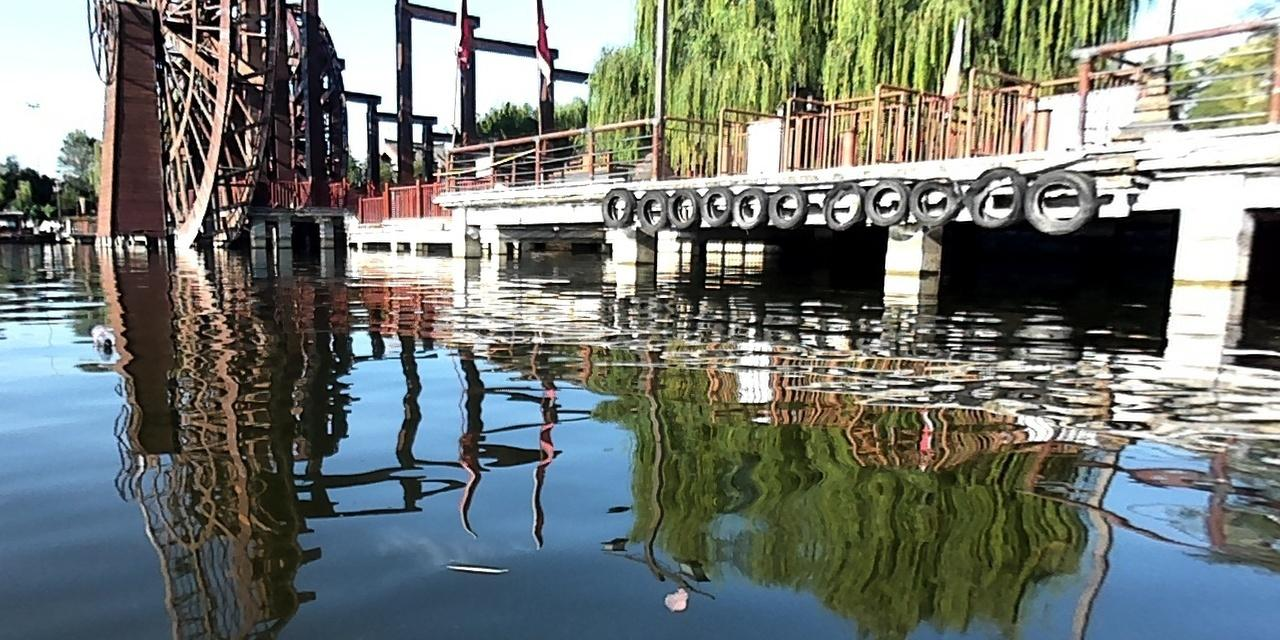bottle: (90, 320, 117, 350)
